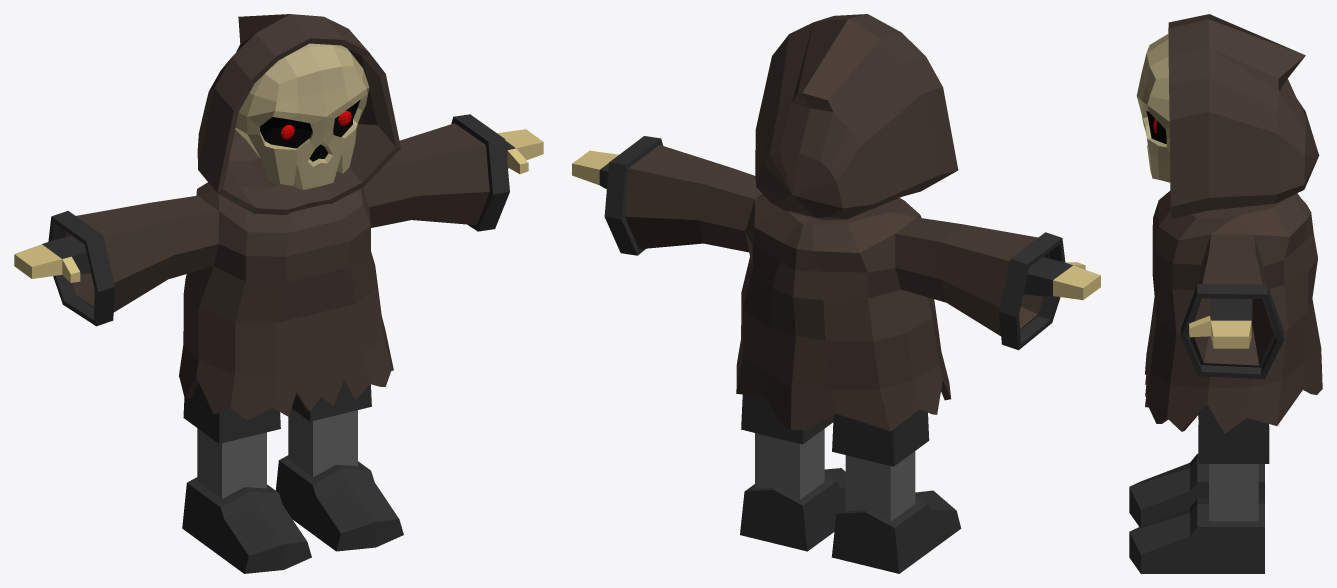
Rendered from AcolitoBase.fbx.
3 renders of one model, left to right at view 1: azimuth 30°, elevation 25°; view 2: azimuth 150°, elevation 25°; view 3: azimuth 270°, elevation 25°, orthographic.
Parts seen in each view (by area): view 1: eyes; view 2: eyes; view 3: eyes.
Boxes of the visible parts, x1,y1,x2,y2 form: eyes: (14,14,543,573); eyes: (572,14,1100,573); eyes: (1129,14,1322,573).
Size of the model in its own units: 176 by 169 by 57.51.
2 materials, 2 textured.
